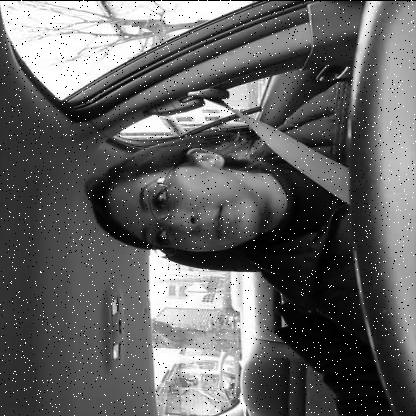seatbelt: (69, 76, 351, 267)
